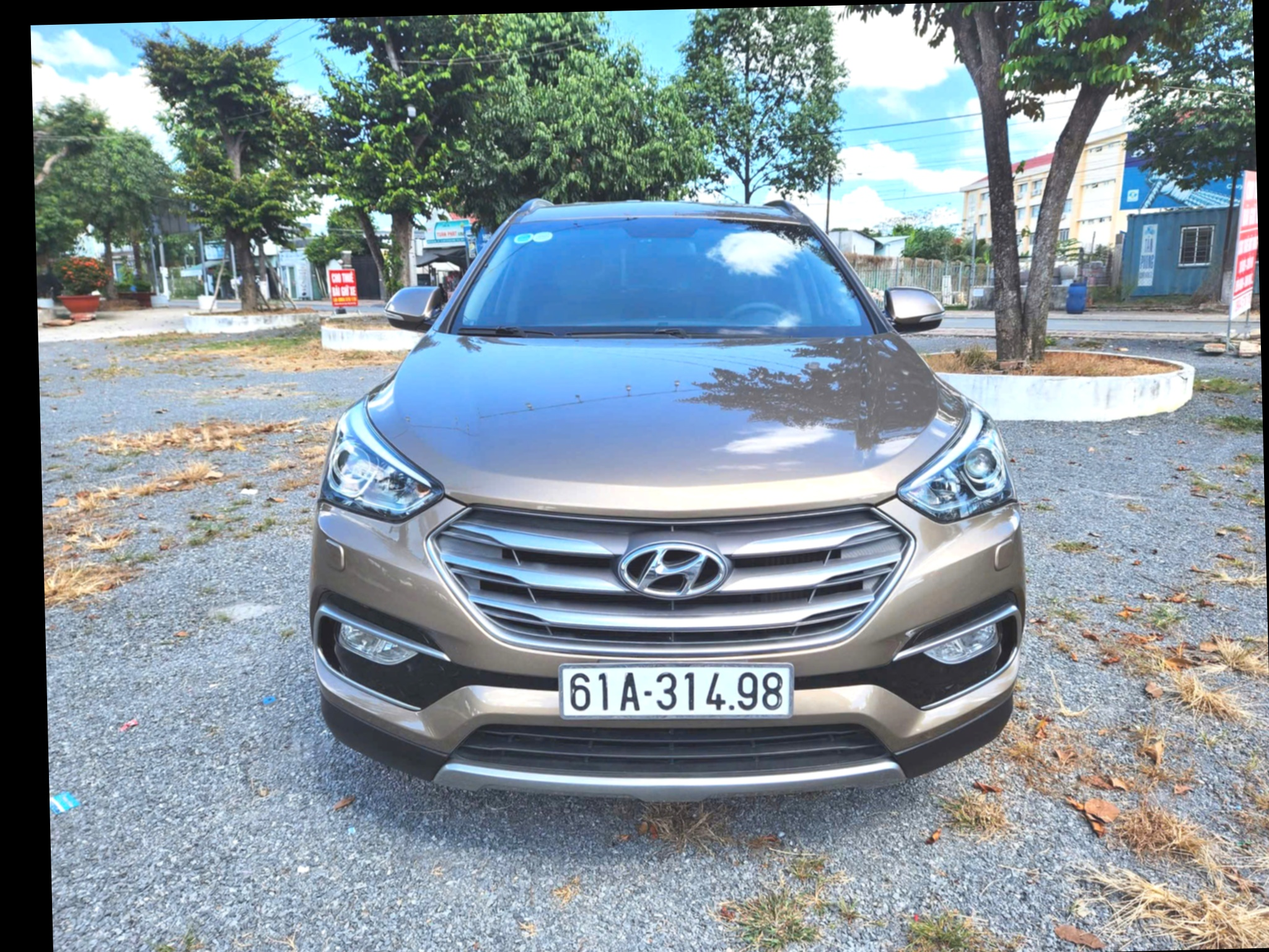Bien-so: (551, 656, 797, 730)
